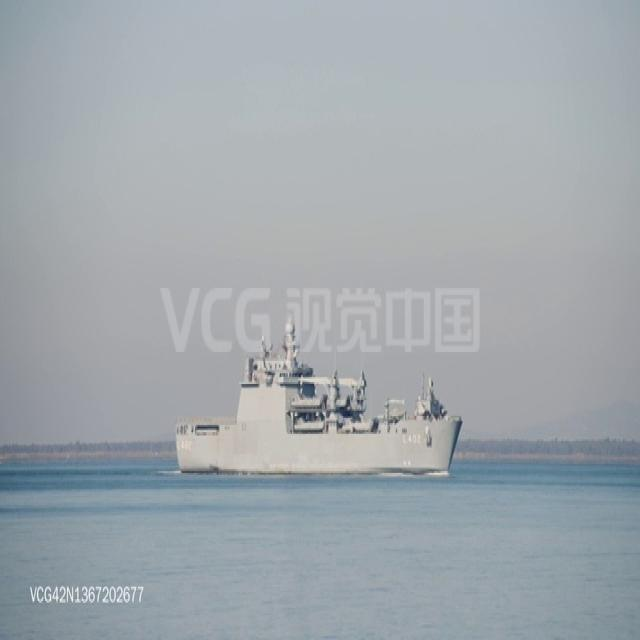navalvessels: (172, 317, 460, 477)
